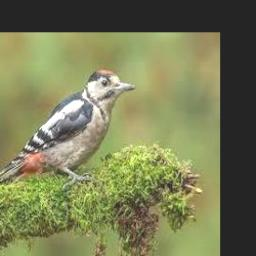Woodpecker: (0, 69, 135, 186)
